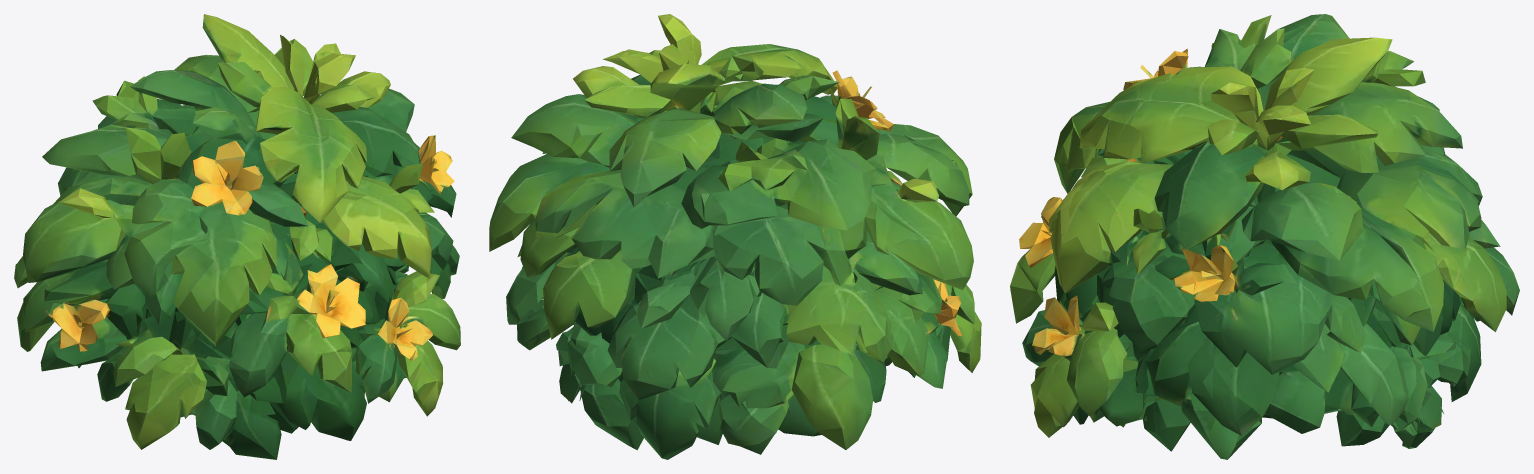
The model's file is prop_bush.glb.
3 renders of one model, left to right at view 1: azimuth 30°, elevation 25°; view 2: azimuth 150°, elevation 25°; view 3: azimuth 270°, elevation 25°, orthographic. The views are drawn at different scales.
Visible parts, largest first — view 1: output_unwrapped; view 2: output_unwrapped; view 3: output_unwrapped.
Part boxes in pixels (x1,y1,x2,y2): output_unwrapped: (14, 14, 460, 459); output_unwrapped: (489, 14, 981, 459); output_unwrapped: (1010, 14, 1519, 459).
Size of the model in its own units: 1.9 by 1.49 by 1.75.
Materials: 1 (1 with a texture image).
